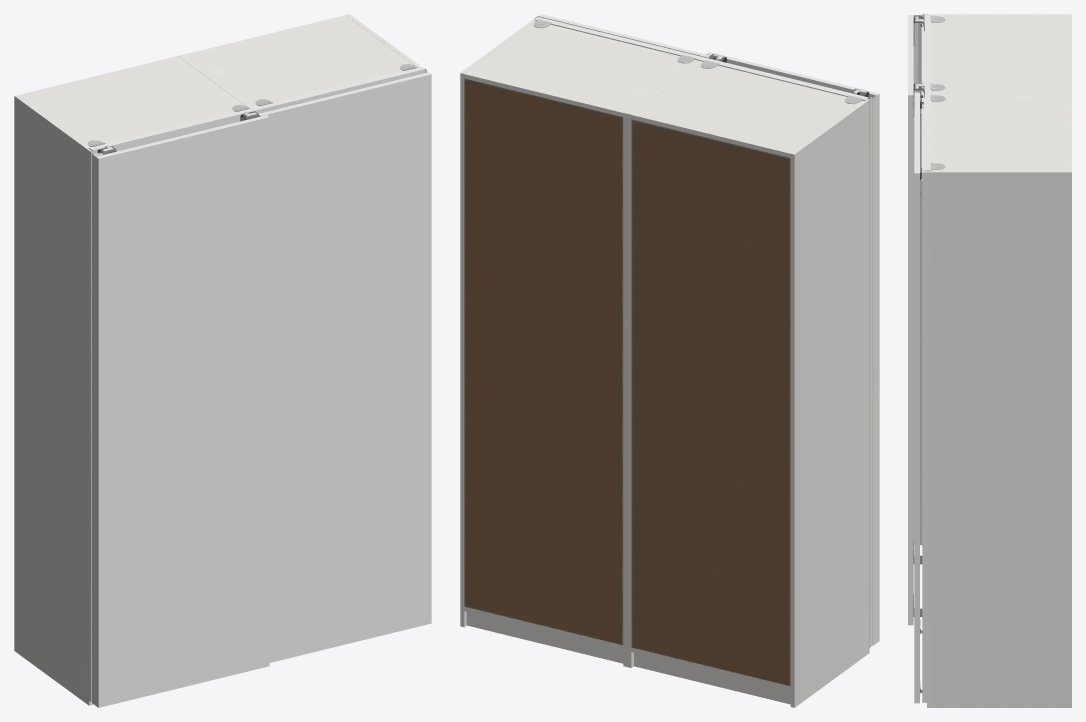
The model's file is pax_hasvik_szafa_39429755.glb.
3 views of the same model, side by side, from view 1: azimuth 30°, elevation 25°; view 2: azimuth 150°, elevation 25°; view 3: azimuth 270°, elevation 25° (orthographic). The views are drawn at different scales.
Visible parts, largest first — view 1: pax_hasvik_szafa_39429755; view 2: pax_hasvik_szafa_39429755; view 3: pax_hasvik_szafa_39429755.
Part boxes in pixels (x1=…): pax_hasvik_szafa_39429755: x1=14, y1=14, x2=431, y2=707; pax_hasvik_szafa_39429755: x1=460, y1=14, x2=879, y2=707; pax_hasvik_szafa_39429755: x1=908, y1=14, x2=1071, y2=707.
Size of the model in its own units: 1.5 by 2.38 by 0.6559.
Materials: 1 (1 with a texture image).
